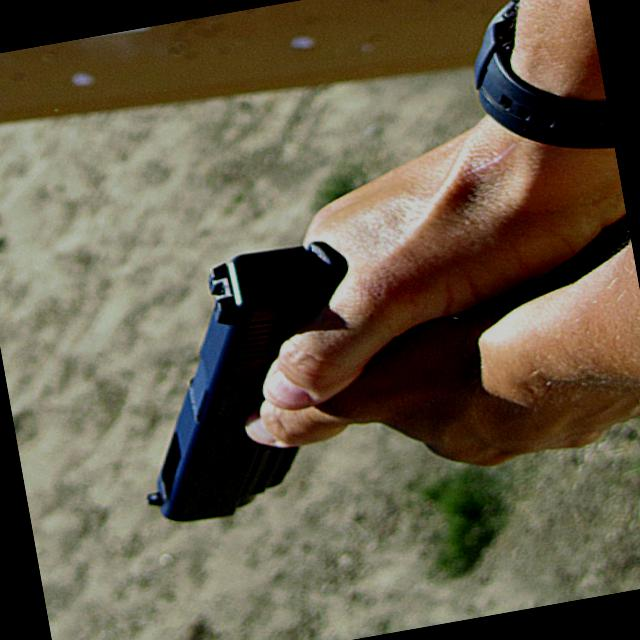handgun: (96, 223, 436, 540)
